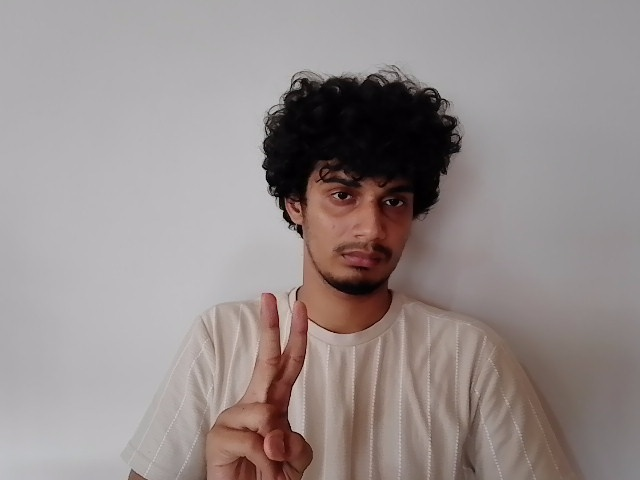travel: (197, 289, 325, 474)
